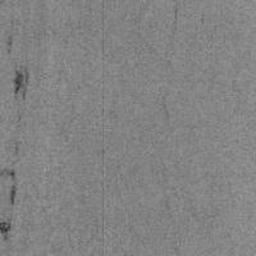Inclusion: (12, 60, 32, 102), (0, 166, 18, 207), (0, 221, 13, 242)
